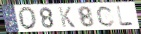8: (76, 5, 96, 28), (39, 6, 55, 29)
C: (96, 5, 117, 28)
K: (57, 6, 76, 29)
L: (116, 5, 135, 27)
O: (17, 6, 38, 31)
